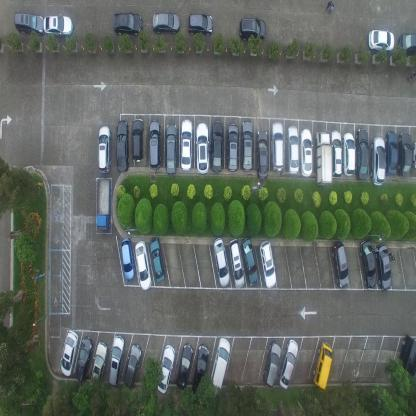car: (208, 336, 231, 395), (394, 334, 416, 388), (312, 339, 334, 391), (278, 338, 299, 390), (261, 340, 282, 388), (191, 342, 209, 398), (89, 341, 108, 394), (107, 334, 125, 388), (315, 129, 332, 186), (240, 235, 259, 285), (212, 236, 230, 287), (157, 342, 175, 393), (60, 327, 78, 377), (135, 239, 152, 291), (228, 237, 245, 289), (96, 177, 112, 232), (75, 335, 93, 383), (12, 10, 45, 36), (330, 241, 349, 286), (176, 342, 193, 391), (123, 342, 141, 388), (371, 134, 386, 188), (360, 238, 376, 288), (355, 126, 369, 183), (260, 239, 276, 288), (113, 11, 142, 38), (238, 16, 267, 43), (195, 122, 210, 174), (97, 123, 112, 175), (164, 121, 178, 176), (115, 118, 129, 173), (375, 242, 391, 290), (179, 118, 193, 171), (150, 236, 166, 282), (368, 26, 394, 54), (270, 121, 284, 173), (43, 13, 72, 38), (151, 10, 180, 35), (241, 118, 254, 173), (148, 119, 162, 170), (330, 128, 343, 179), (299, 127, 312, 178), (120, 237, 135, 281), (211, 119, 223, 172), (398, 130, 411, 178), (286, 124, 298, 174), (187, 11, 213, 34), (342, 130, 355, 176), (131, 117, 144, 163), (256, 129, 268, 178), (386, 130, 398, 177), (227, 122, 238, 173), (399, 31, 415, 57), (412, 139, 415, 171)
